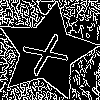X: (22, 27, 79, 77)
